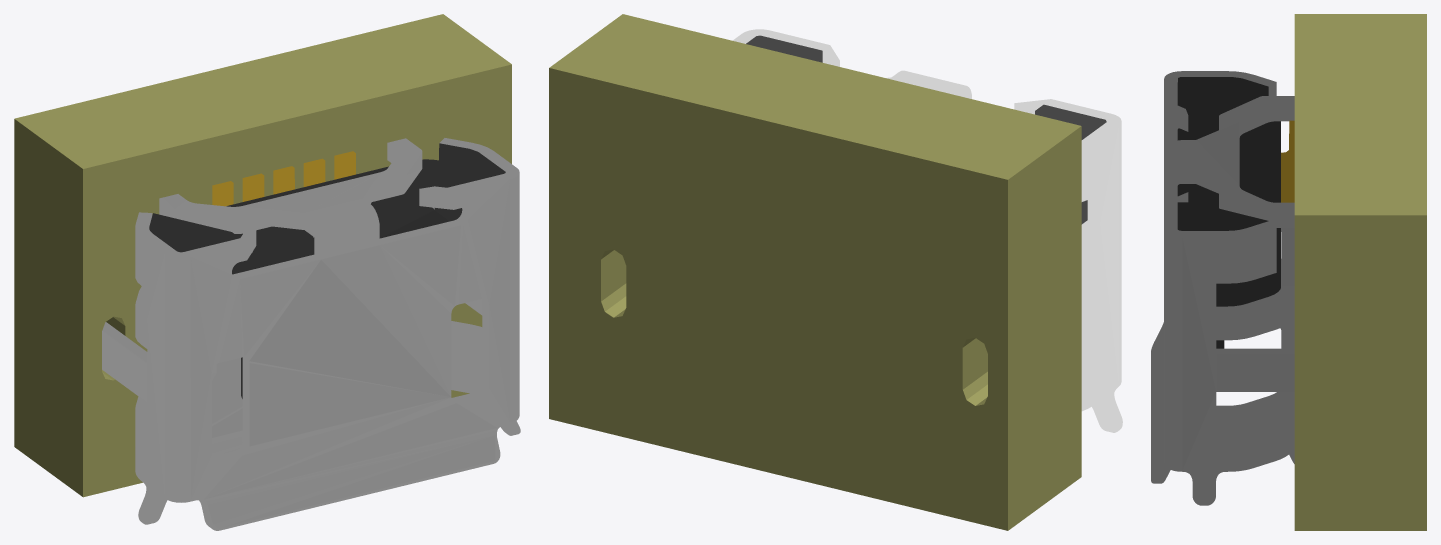
The model's file is OBJ_MICRO-USB-SMD_5P-P0.65-H-F_C10418.obj.
The picture shows the model from 3 angles, left to right: view 1: azimuth 30°, elevation 25°; view 2: azimuth 150°, elevation 25°; view 3: azimuth 270°, elevation 25°; orthographic projection. The views are drawn at different scales.
Bounding box in the file's own units: 35.96 × 26.29 × 20.83.
